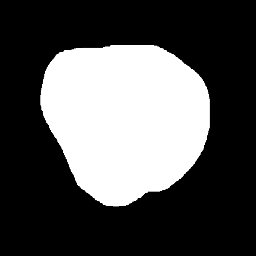mass: (39, 36, 212, 205)
